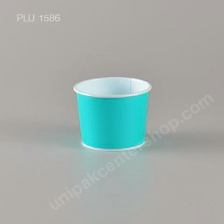paper_cup: (68, 72, 155, 154)
